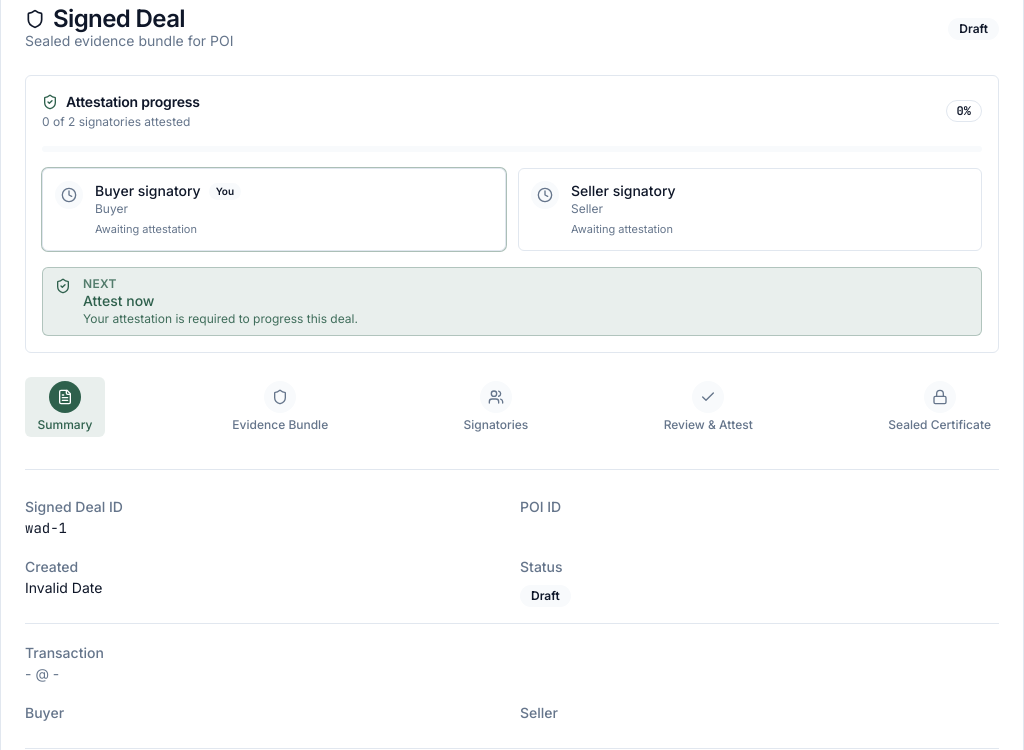
Scenario: WadStepper attestation error hints › shows client-error hint pointing at form with Ref
Click the button "Review & Attest": (708,407) [656,377,761,437]
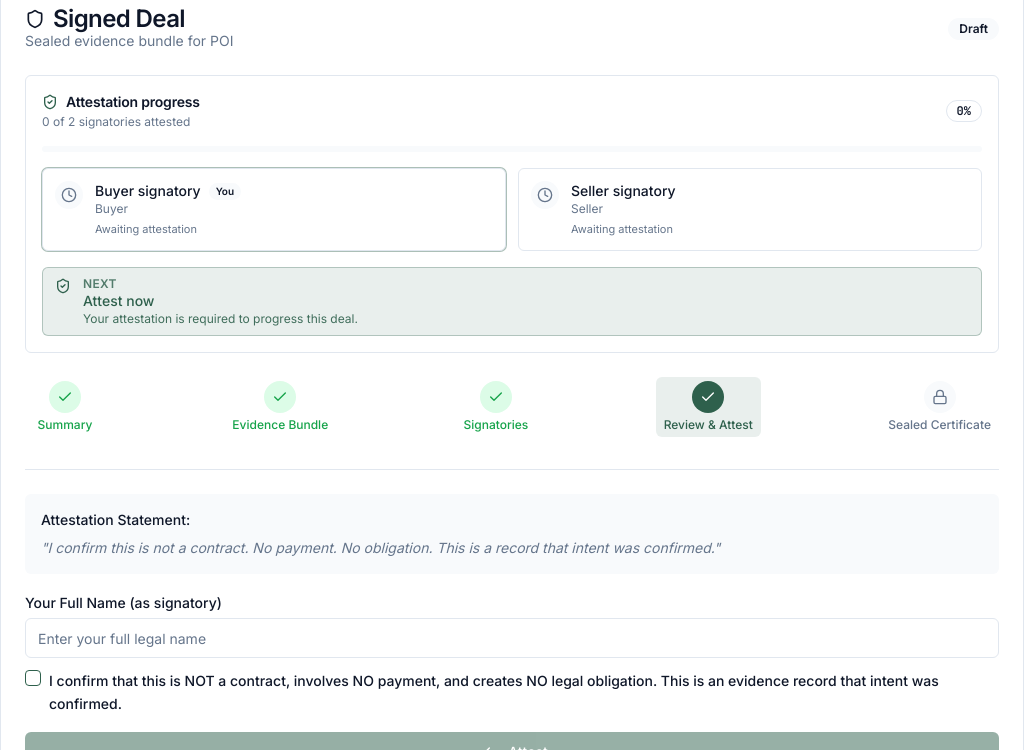
In the field labelled "Your Full Name (as signatory)": (512,638) [25,618,999,658], type "Jane Doe"
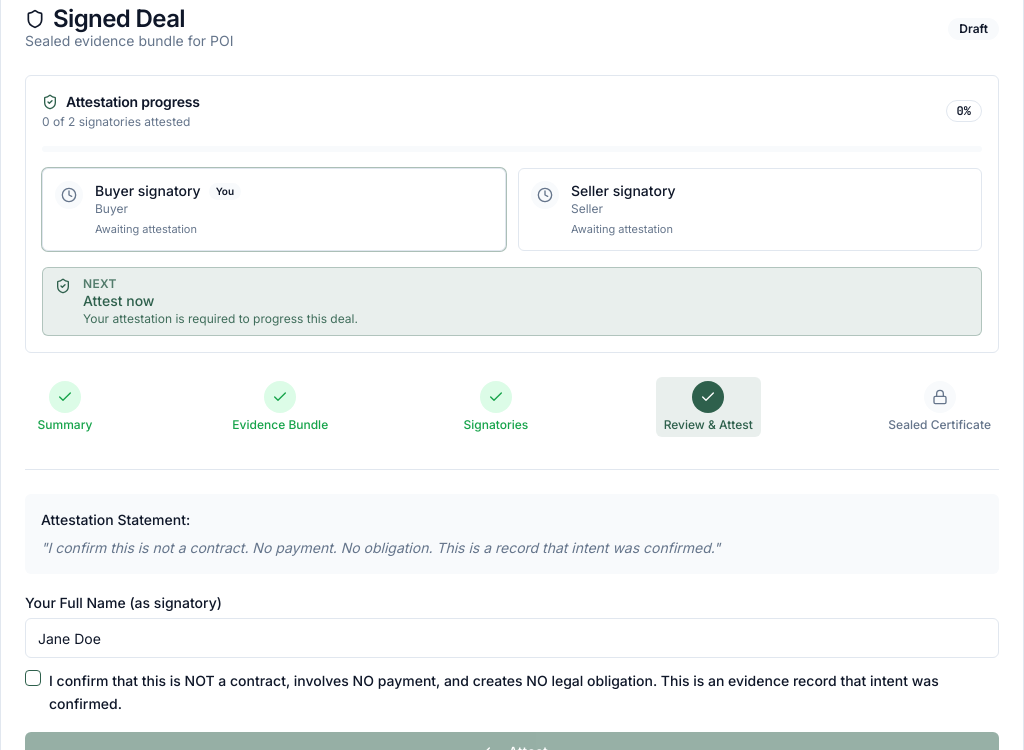
Click the checkbox named "i confirm that this is not a contract": (33,678) [25,670,41,686]
(page scrolled)
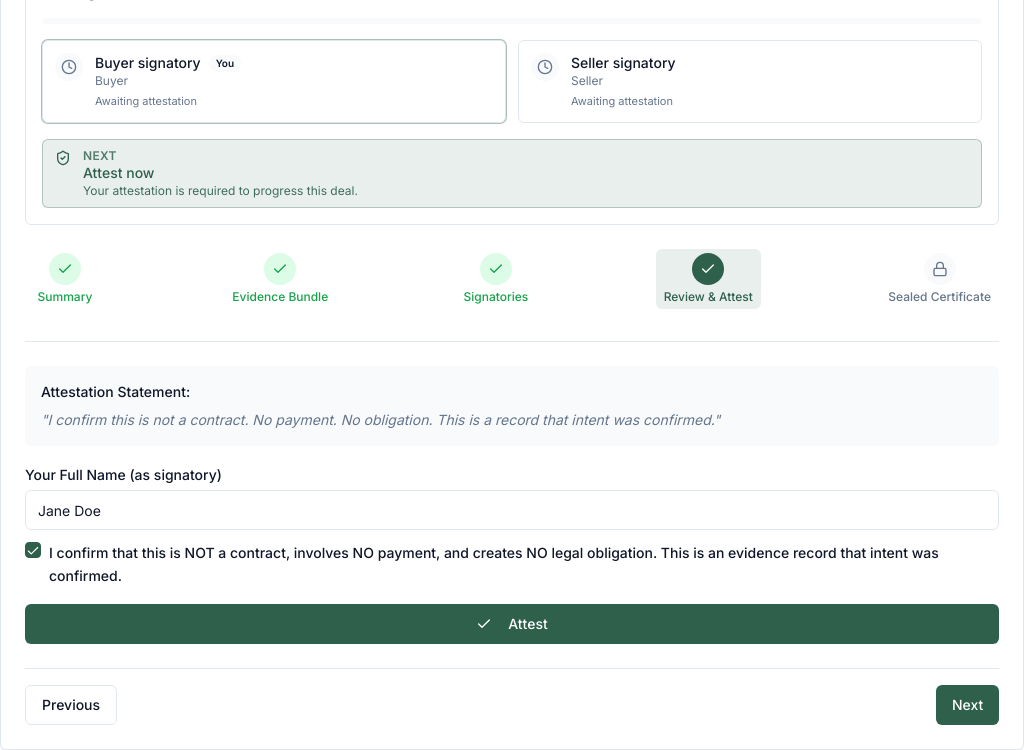
Click the button "Attest": (512,624) [25,604,999,644]
(page scrolled)
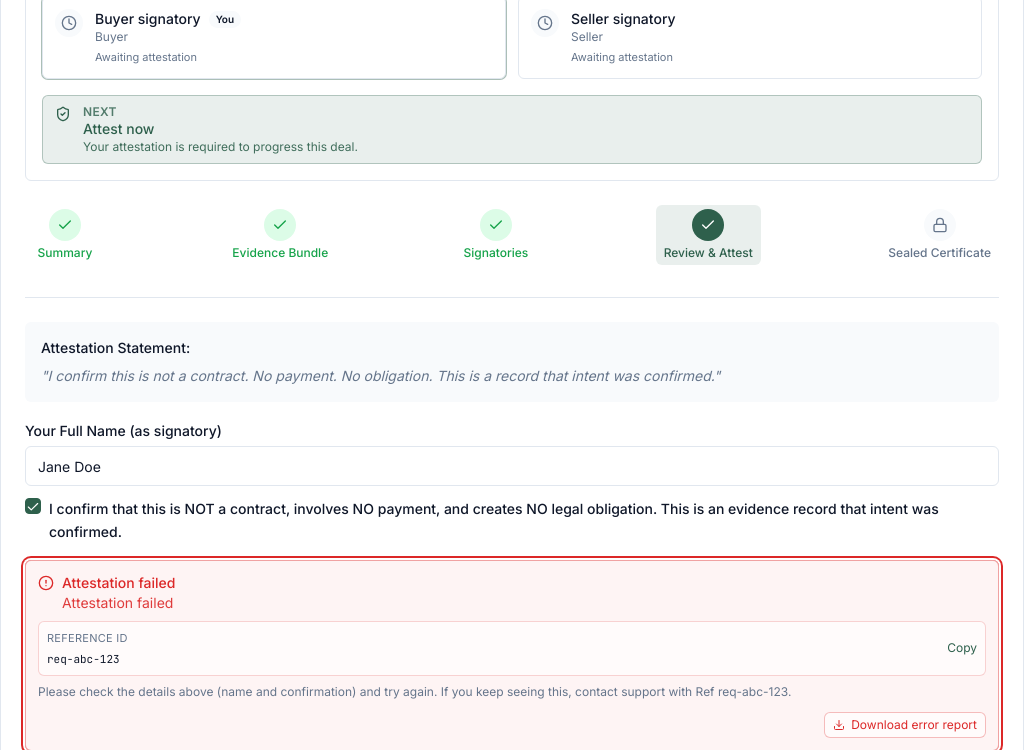
Check: the text with test id "attest-error-hint" shows "check the details", box [38,684,791,698]
Check: the text with test id "attest-error-hint" shows "Ref req-abc-123", box [38,684,791,698]
